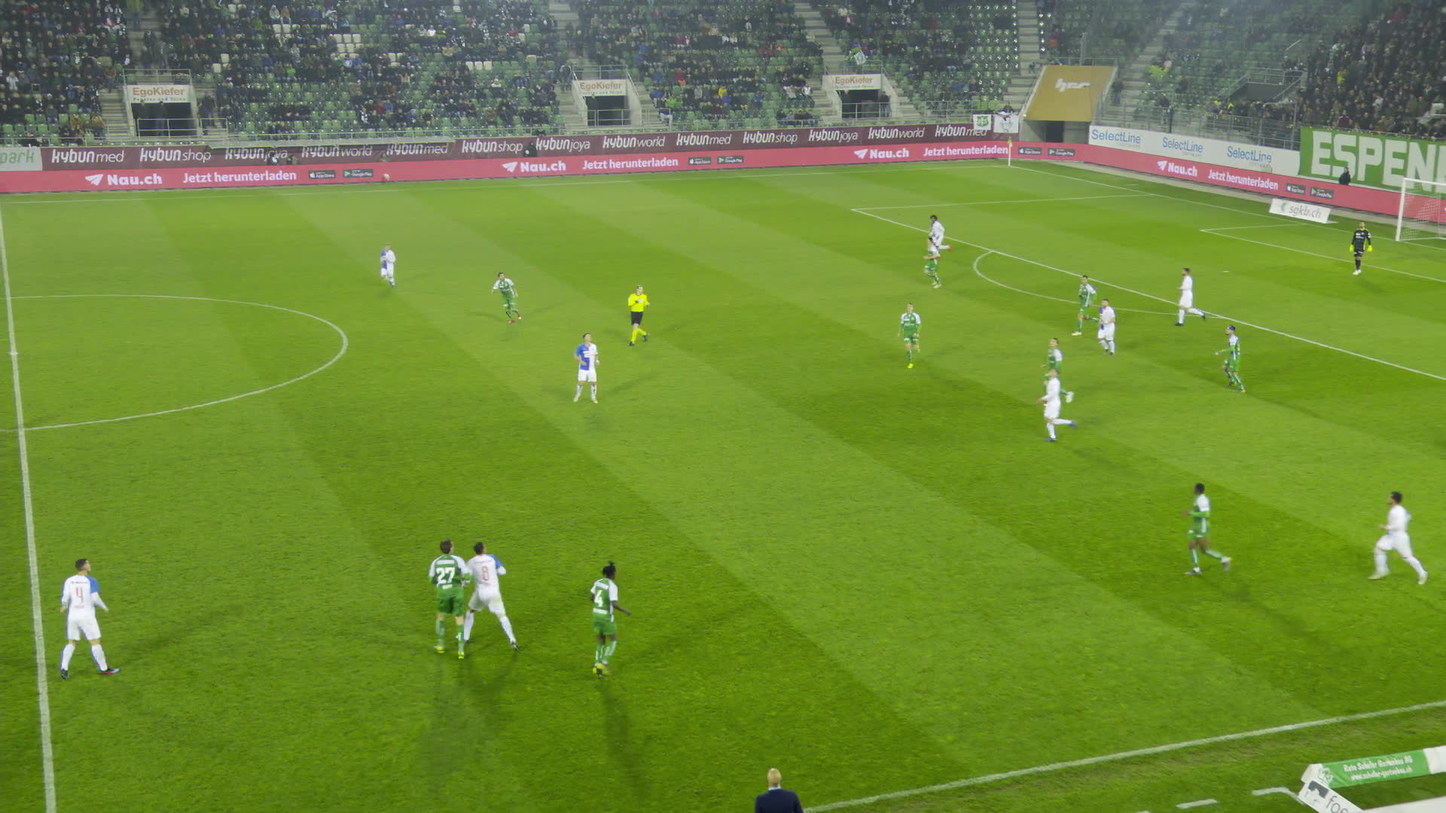player: (59, 556, 118, 674), (462, 540, 513, 654), (580, 561, 628, 680), (428, 540, 473, 659), (1374, 490, 1428, 589), (1184, 483, 1230, 574), (1039, 368, 1077, 442), (573, 330, 602, 406), (1214, 324, 1245, 392), (1040, 339, 1071, 403), (1176, 266, 1207, 325), (1075, 273, 1102, 335), (491, 269, 521, 324), (896, 302, 921, 366), (1095, 297, 1122, 355), (1346, 221, 1372, 277), (923, 236, 947, 289), (377, 242, 401, 285), (928, 213, 949, 259)
referee: (627, 284, 653, 346)
